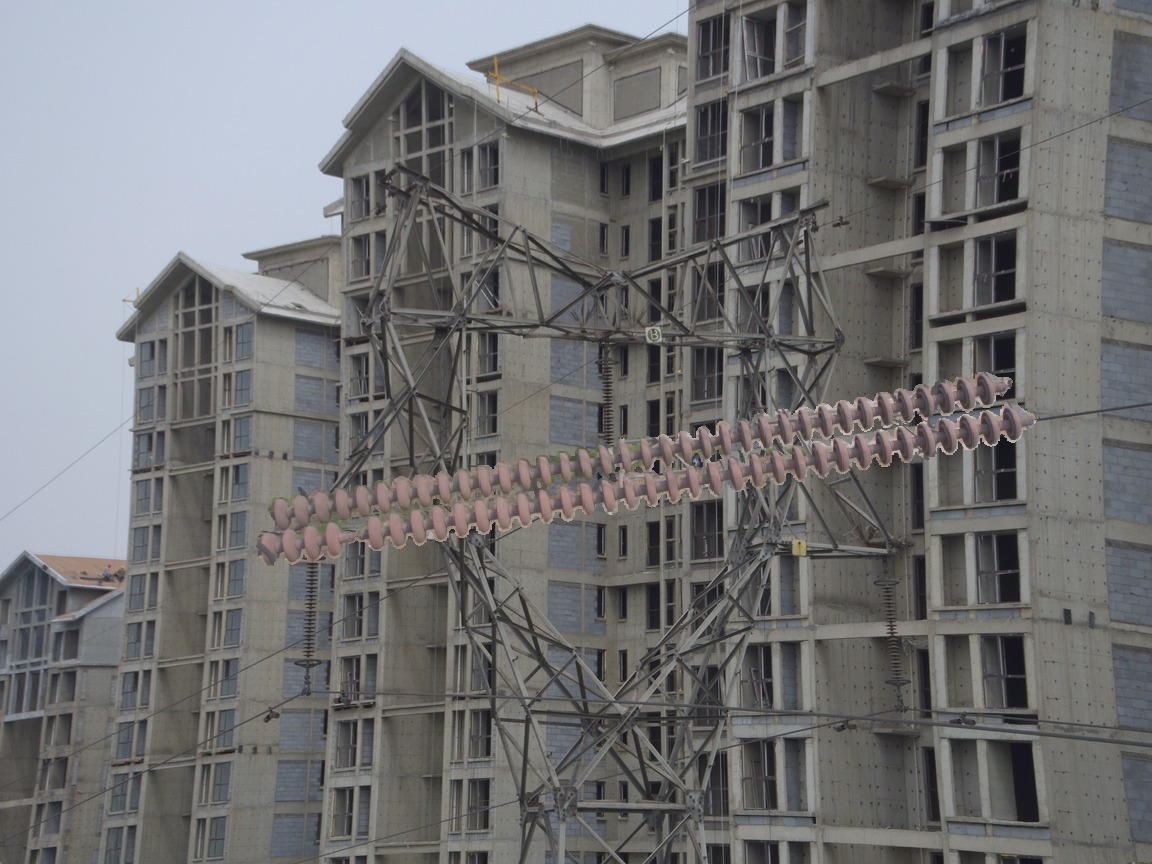defect: (318, 514, 389, 562)
